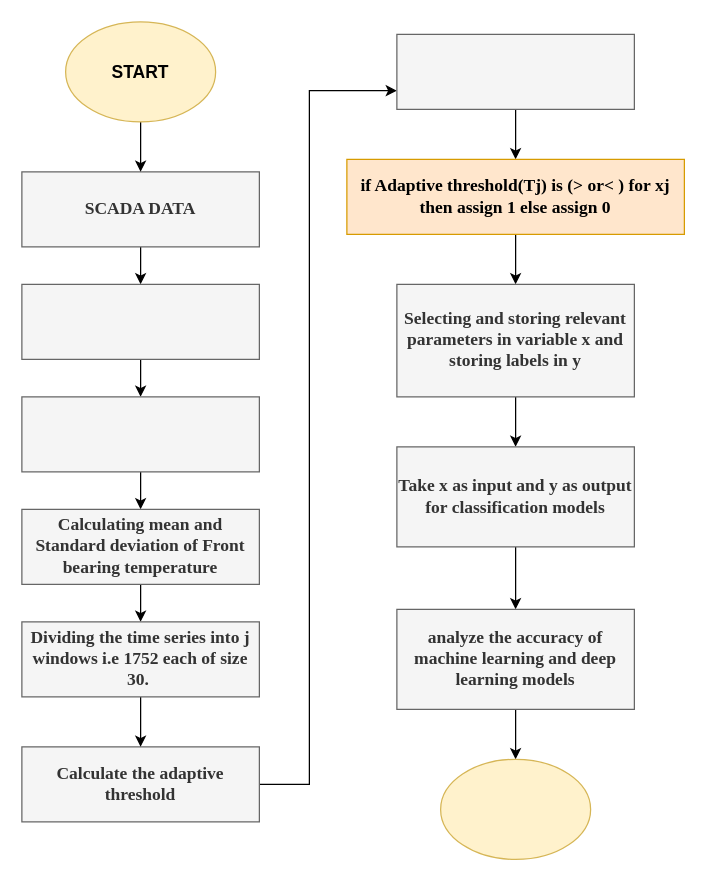
Some shapes in this 706 by 881 pixel diagram are drawn without their labels. The centre of each missing label's shape, as x and y in pixels:
"Data cleaning and preprocessing" goes at point (140, 321).
"Stop" goes at point (515, 808).
"Tj=μj±σj, λ=3" goes at point (515, 71).
"Univariate timeseries selection" goes at point (140, 434).
